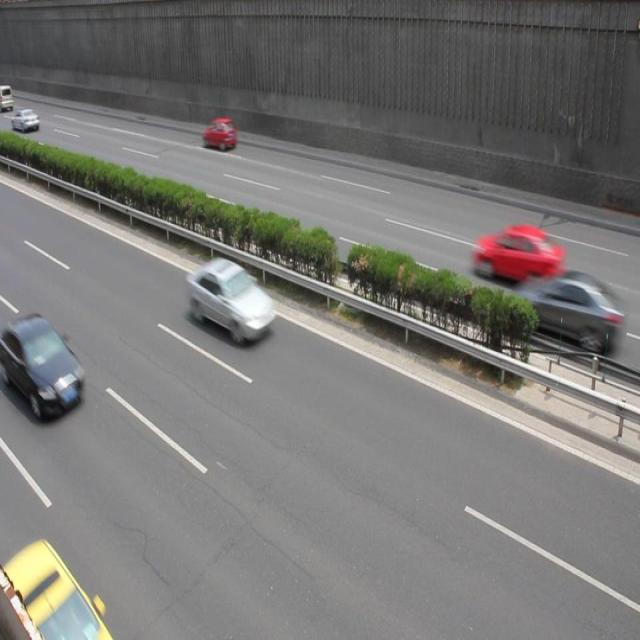car: (1, 310, 85, 424), (186, 258, 278, 346), (511, 269, 606, 354), (471, 224, 567, 289), (203, 118, 236, 153)
